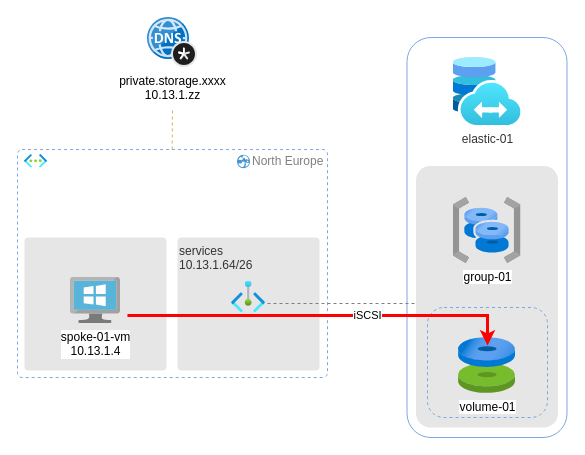
Some shapes in this 585 by 455 pixel diagram are drawn without their labels. Here are the shapes that lost their labels. From the top down, the box of each, then its label:
(24, 154, 47, 168): spoke-01 10.13.1.0/24
(24, 237, 166, 370): default 10.13.1.0/26
(231, 280, 265, 312): 10.13.1.xx
